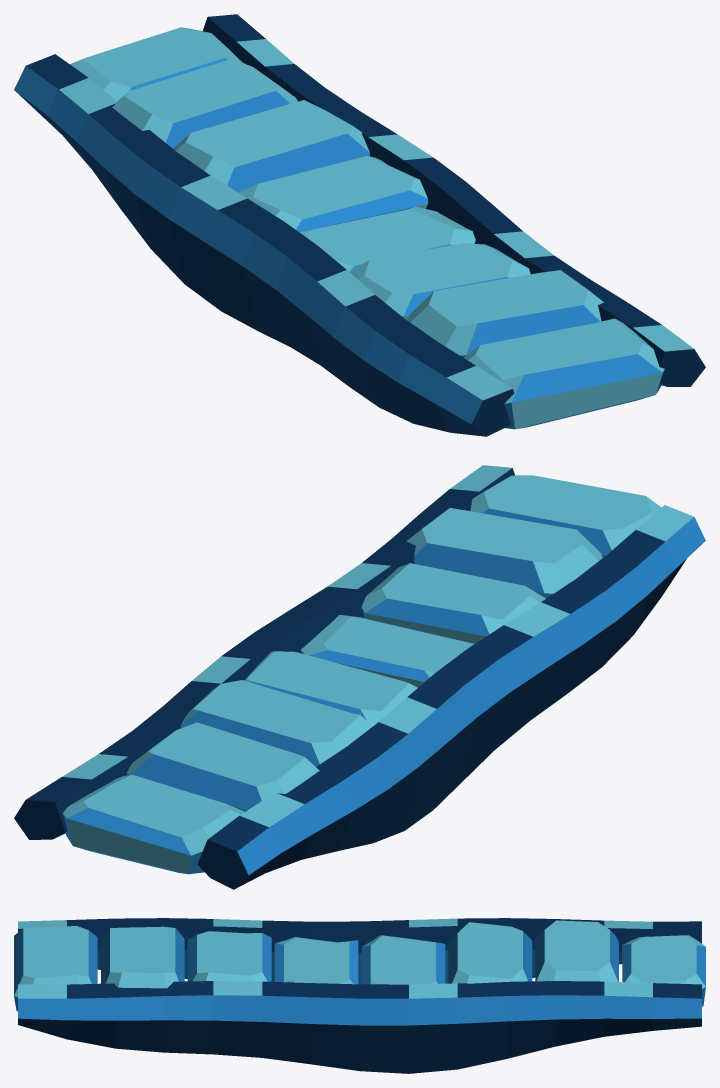
File: rime_bridge.obj
3 renders of one model, top to bottom at view 1: azimuth 30°, elevation 25°; view 2: azimuth 150°, elevation 25°; view 3: azimuth 270°, elevation 25°, orthographic. The views are drawn at different scales.
Visible parts, largest first — view 1: Rime_Bridge_Glacier_Buttress_L, Rime_Bridge_Glacier_Buttress_R, Rime_Bridge_Ice_Flagstone_01, Rime_Bridge_Ice_Flagstone_06, Rime_Bridge_Ice_Flagstone_02, Rime_Bridge_Ice_Flagstone_05, Rime_Bridge_Ice_Flagstone_07, Rime_Bridge_Ice_Flagstone_03, Rime_Bridge_Ice_Flagstone_08, Rime_Bridge_Ice_Flagstone_04; view 2: Rime_Bridge_Glacier_Buttress_L, Rime_Bridge_Glacier_Buttress_R, Rime_Bridge_Ice_Flagstone_08, Rime_Bridge_Ice_Flagstone_02, Rime_Bridge_Ice_Flagstone_07, Rime_Bridge_Ice_Flagstone_03, Rime_Bridge_Ice_Flagstone_06, Rime_Bridge_Ice_Flagstone_01, Rime_Bridge_Ice_Flagstone_04, Rime_Bridge_Ice_Flagstone_05; view 3: Rime_Bridge_Glacier_Buttress_R, Rime_Bridge_Glacier_Buttress_L, Rime_Bridge_Ice_Flagstone_02, Rime_Bridge_Ice_Flagstone_01, Rime_Bridge_Ice_Flagstone_07, Rime_Bridge_Ice_Flagstone_06, Rime_Bridge_Ice_Flagstone_03, Rime_Bridge_Ice_Flagstone_08, Rime_Bridge_Ice_Flagstone_05, Rime_Bridge_Ice_Flagstone_04.
Boxes of the visible parts, x1,y1,x2,y2 form: Rime_Bridge_Glacier_Buttress_L: (14,54,514,436); Rime_Bridge_Glacier_Buttress_R: (203,14,705,386); Rime_Bridge_Ice_Flagstone_01: (463,318,664,429); Rime_Bridge_Ice_Flagstone_06: (173,100,369,192); Rime_Bridge_Ice_Flagstone_02: (407,270,603,357); Rime_Bridge_Ice_Flagstone_05: (238,156,428,232); Rime_Bridge_Ice_Flagstone_07: (112,58,297,148); Rime_Bridge_Ice_Flagstone_03: (349,243,530,320); Rime_Bridge_Ice_Flagstone_08: (70,27,242,101); Rime_Bridge_Ice_Flagstone_04: (300,207,475,271); Rime_Bridge_Glacier_Buttress_L: (197,505,705,889); Rime_Bridge_Glacier_Buttress_R: (14,465,514,839); Rime_Bridge_Ice_Flagstone_08: (63,774,244,874); Rime_Bridge_Ice_Flagstone_02: (406,508,602,598); Rime_Bridge_Ice_Flagstone_07: (127,722,319,811); Rime_Bridge_Ice_Flagstone_03: (361,563,545,643); Rime_Bridge_Ice_Flagstone_06: (180,680,372,766); Rime_Bridge_Ice_Flagstone_01: (470,475,661,557); Rime_Bridge_Ice_Flagstone_04: (301,615,474,687); Rime_Bridge_Ice_Flagstone_05: (244,651,417,725); Rime_Bridge_Glacier_Buttress_R: (18,981,701,1073); Rime_Bridge_Glacier_Buttress_L: (18,918,701,984); Rime_Bridge_Ice_Flagstone_02: (101,926,184,988); Rime_Bridge_Ice_Flagstone_01: (14,926,97,1011); Rime_Bridge_Ice_Flagstone_07: (535,920,618,981); Rime_Bridge_Ice_Flagstone_06: (448,922,532,983); Rime_Bridge_Ice_Flagstone_03: (187,931,271,981); Rime_Bridge_Ice_Flagstone_08: (622,935,705,1006); Rime_Bridge_Ice_Flagstone_05: (361,935,445,984); Rime_Bridge_Ice_Flagstone_04: (274,937,358,984).
Size of the model in its own units: 3.38 by 1.6 by 11.07.
